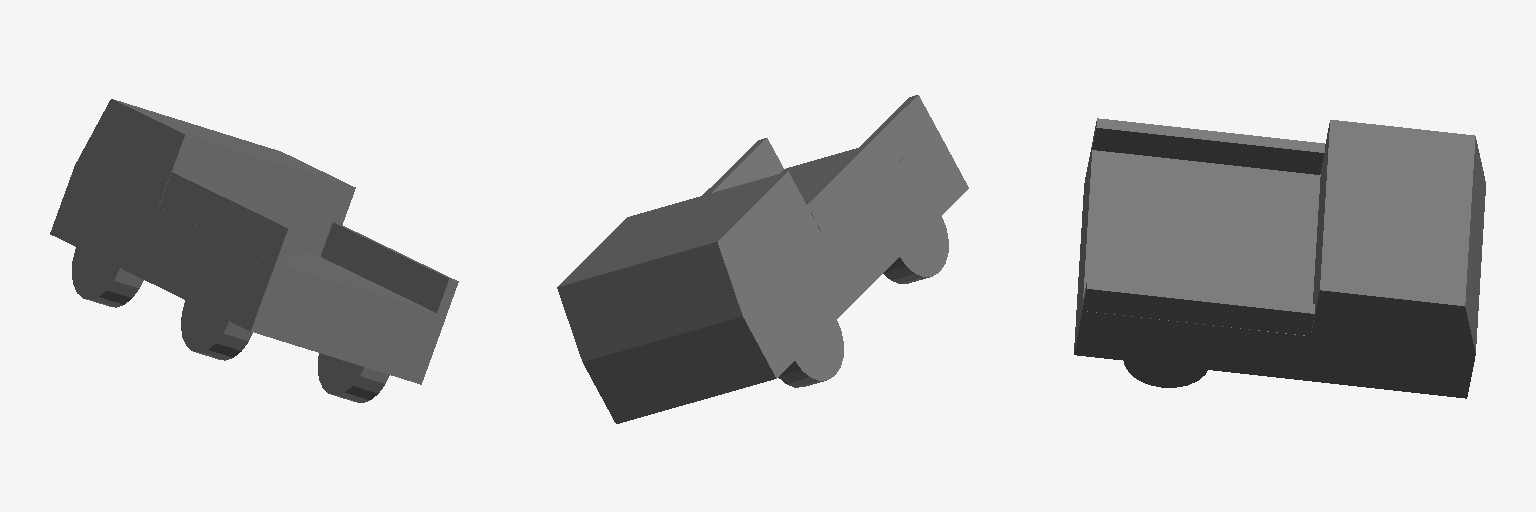
Rendered from lorry.obj.
3 views of the same model, side by side, from view 1: azimuth 30°, elevation 25°; view 2: azimuth 150°, elevation 25°; view 3: azimuth 270°, elevation 25° (orthographic).
Visible parts, largest first — view 1: pCube4; view 2: pCube4; view 3: pCube4.
Part boxes in pixels (left/top/right/bottom): pCube4: left=50, top=99, right=458, bottom=402; pCube4: left=557, top=95, right=968, bottom=423; pCube4: left=1074, top=118, right=1485, bottom=398.
Size of the model in its own units: 5.14 by 4.67 by 7.65.